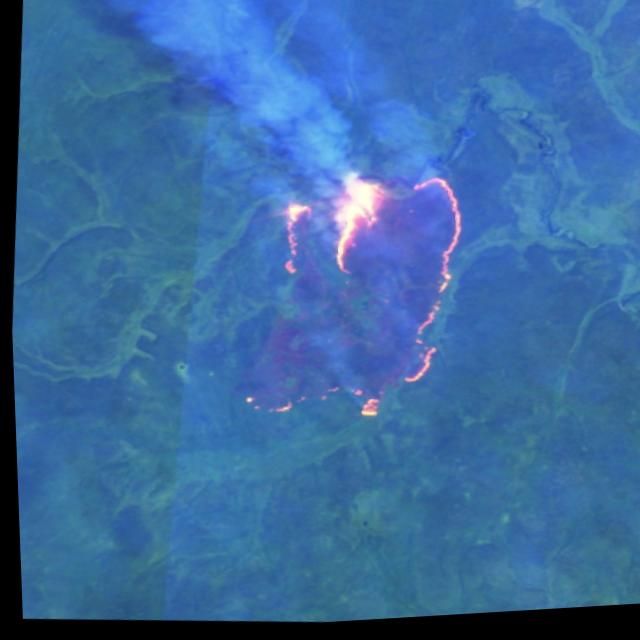fire: (227, 158, 472, 443)
